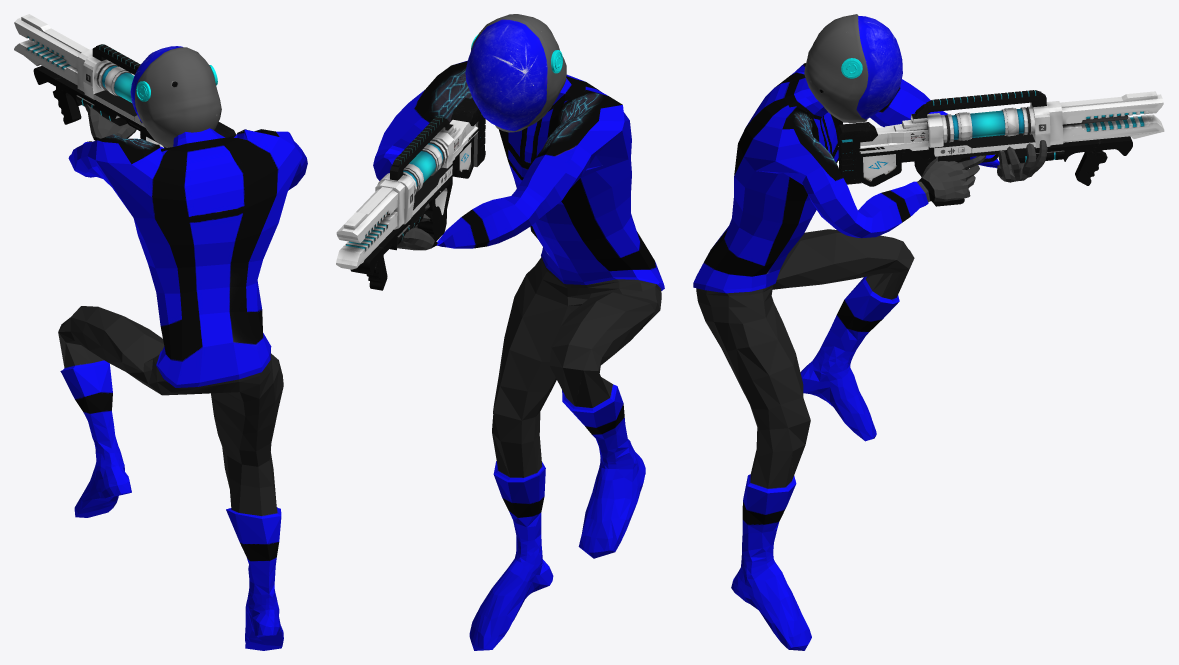
3 renders of one model, left to right at view 1: azimuth 30°, elevation 25°; view 2: azimuth 150°, elevation 25°; view 3: azimuth 270°, elevation 25°, orthographic. The views are drawn at different scales.
Visible parts, largest first — view 1: Brazos2, Piernas1, Line0011, Cabeza1; view 2: Piernas1, Brazos2, Line0011, Cabeza1; view 3: Piernas1, Brazos2, Line0011, Cabeza1.
Boxes of the visible parts, <box> form: Brazos2: <box>68,104,307,387</box>; Piernas1: <box>58,306,283,650</box>; Line0011: <box>14,14,236,148</box>; Cabeza1: <box>130,46,221,147</box>; Piernas1: <box>469,257,661,650</box>; Brazos2: <box>373,60,664,290</box>; Line0011: <box>336,98,485,290</box>; Cabeza1: <box>465,14,566,132</box>; Piernas1: <box>696,229,914,650</box>; Brazos2: <box>693,63,1047,293</box>; Line0011: <box>836,90,1164,206</box>; Cabeza1: <box>804,14,902,122</box>.
Size of the model in its own units: 68.56 by 175 by 124.
